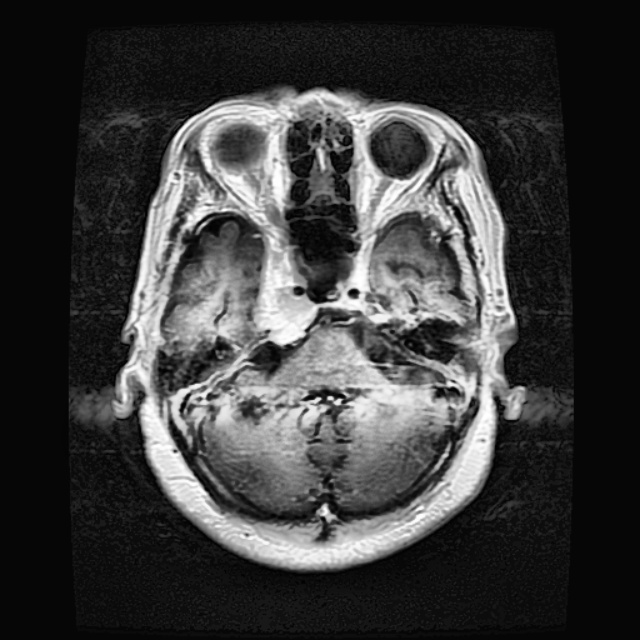Glioma: (258, 234, 318, 345)
